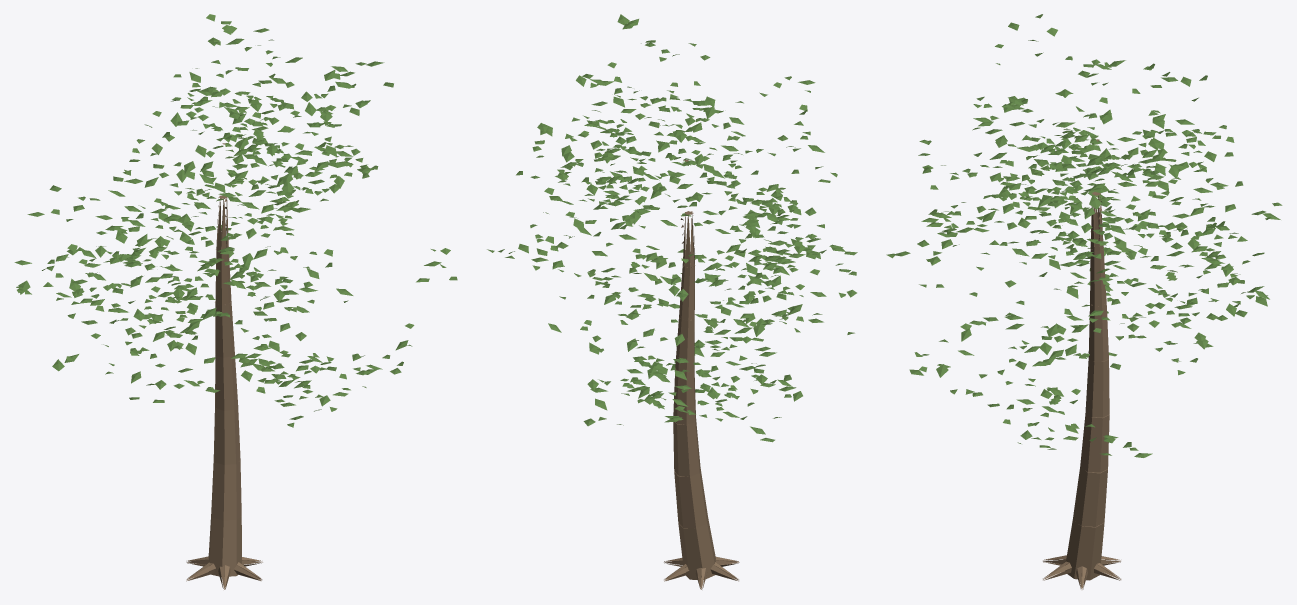
The model's file is oak_17_lod.glb.
The picture shows the model from 3 angles, left to right: view 1: azimuth 30°, elevation 25°; view 2: azimuth 150°, elevation 25°; view 3: azimuth 270°, elevation 25°; orthographic projection. The views are drawn at different scales.
Parts seen in each view (by area): view 1: oak_17; view 2: oak_17; view 3: oak_17.
Boxes of the visible parts, x1,y1,x2,y2 form: oak_17: [14, 14, 457, 589]; oak_17: [487, 14, 857, 589]; oak_17: [886, 14, 1282, 589].
Size of the model in its own units: 12.57 by 15.22 by 10.34.
